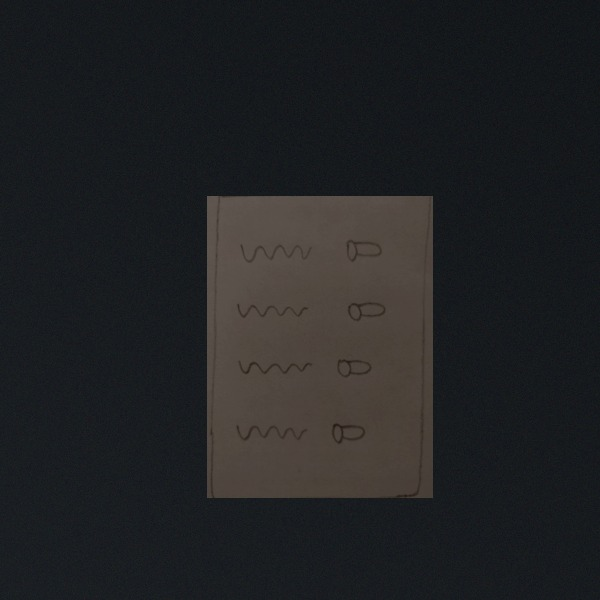switch: (341, 237, 388, 265), (343, 296, 390, 324), (332, 354, 379, 382), (329, 418, 376, 446)
text: (236, 238, 315, 267), (234, 295, 313, 323), (236, 353, 315, 381), (232, 416, 311, 444)
